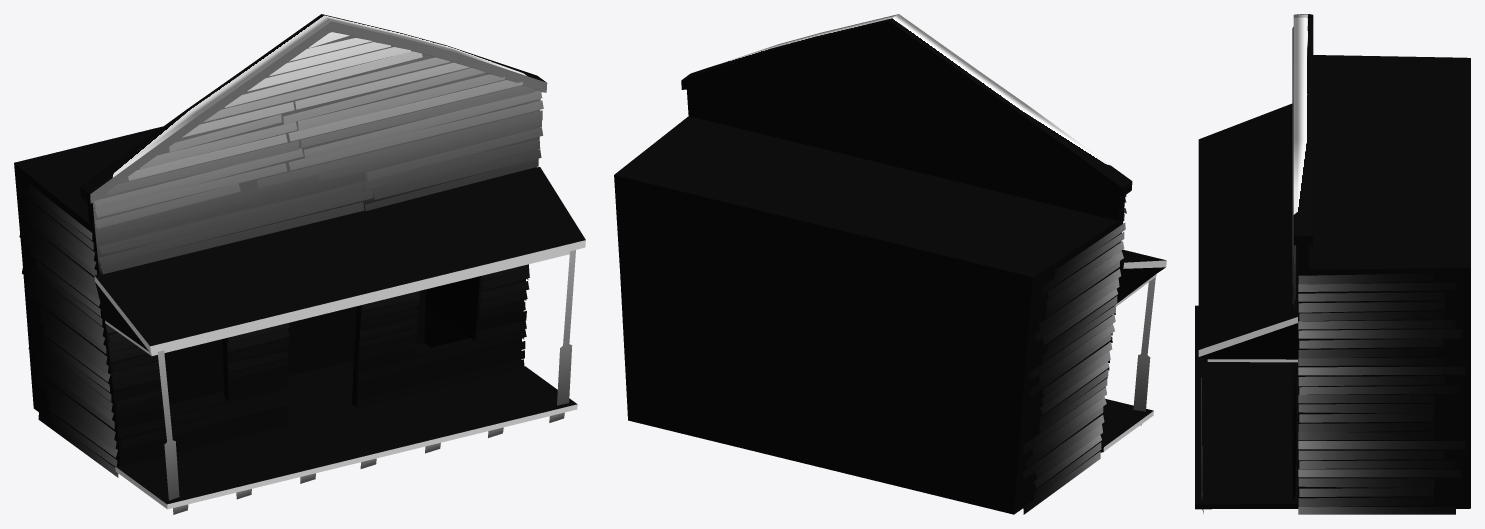
Rendered from Building5.glb.
The picture shows the model from 3 angles, left to right: view 1: azimuth 30°, elevation 25°; view 2: azimuth 150°, elevation 25°; view 3: azimuth 270°, elevation 25°; orthographic projection. The views are drawn at different scales.
Parts seen in each view (by area): view 1: Building5; view 2: Building5; view 3: Building5.
Boxes of the visible parts, x1,y1,x2,y2 form: Building5: [14, 14, 585, 514]; Building5: [614, 14, 1166, 514]; Building5: [1195, 14, 1470, 514].
Size of what is drawn, in the model's own units: 13.45 by 11.54 by 7.09.
1 material, 1 textured.
